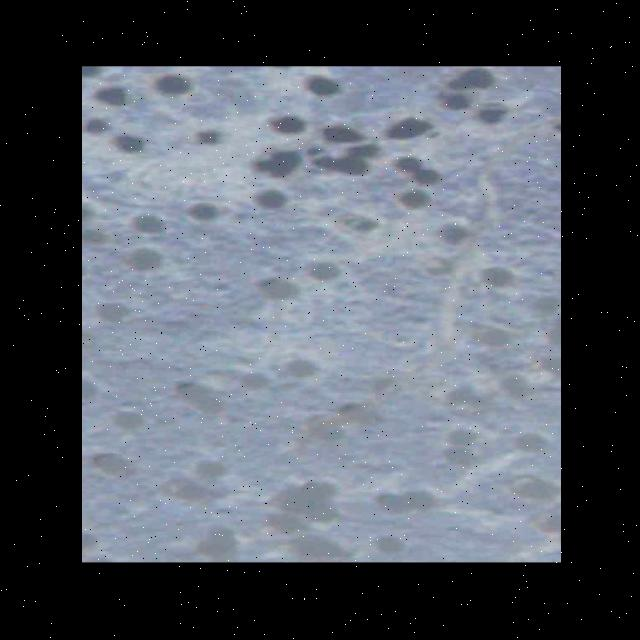Fibre: (302, 168, 498, 450)
